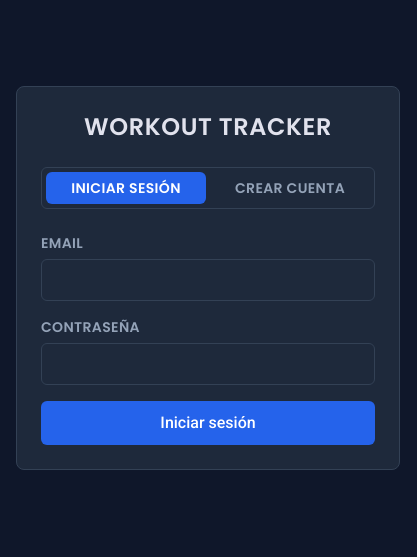
Test case: LoginPage › switches to signup mode, shows a Nombre field, and passes it to signUp
This screenshot has width=417, height=557.
Click the tab "Crear cuenta" at [290, 188], box [210,172,370,204]
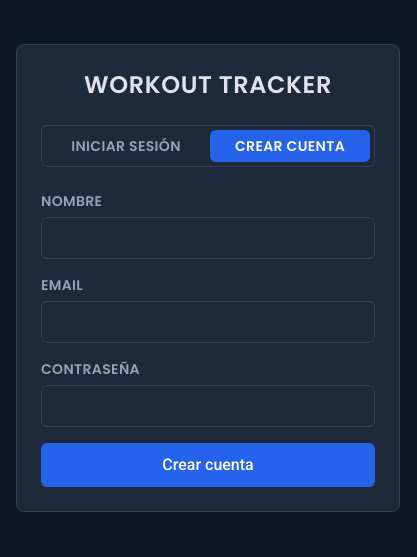
Type "Roberto" into the field labelled "Nombre" at [208, 238], box [41,217,375,259]
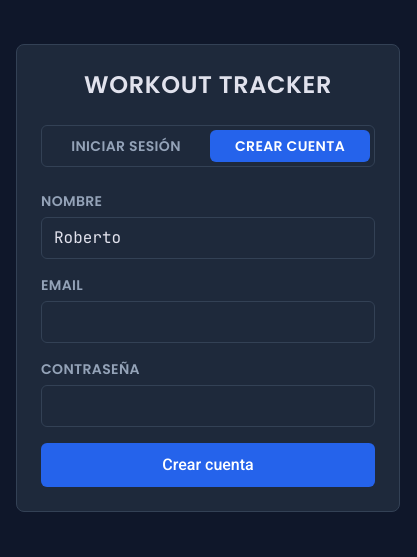
Type "new@b.com" into the field labelled "Email" at [208, 322], box [41,301,375,343]
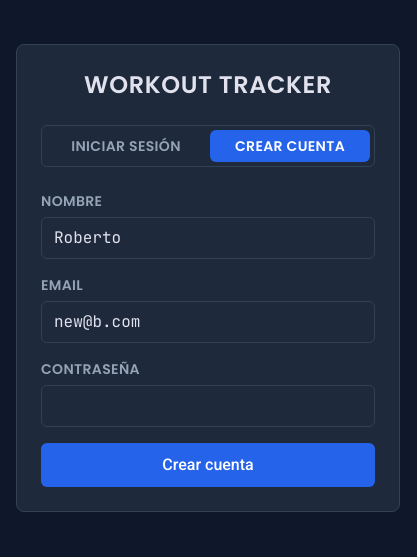
Type "password123" into the password field labelled "Contraseña" at [208, 406], box [41,385,375,427]
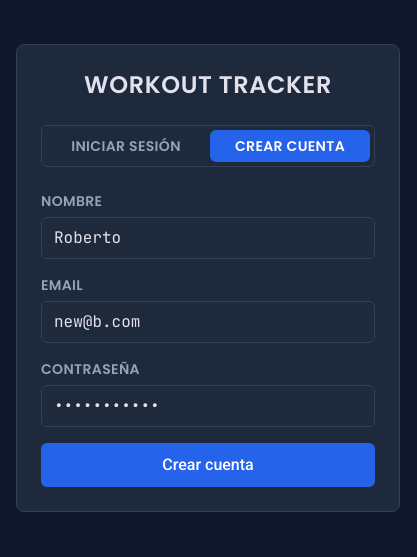
Click the button "Crear cuenta" at [208, 465], box [41,443,375,487]
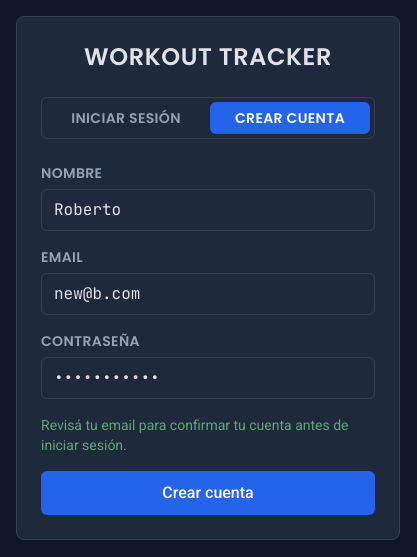
Expected: the text "Revisá tu email" is shown, [41,417,348,453]
